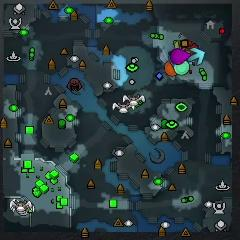p3: (169, 49, 189, 64)
p5: (165, 61, 176, 77)
x2: (173, 40, 180, 50)
x3: (190, 47, 204, 64)
